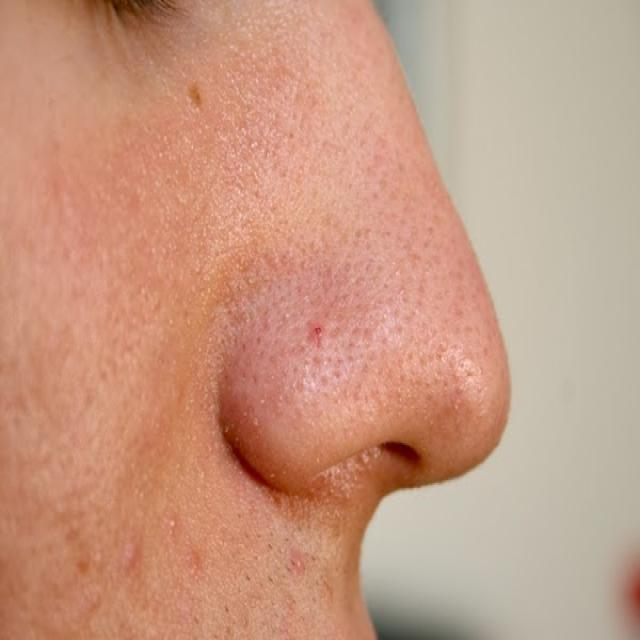Acne: (208, 252, 510, 500)
